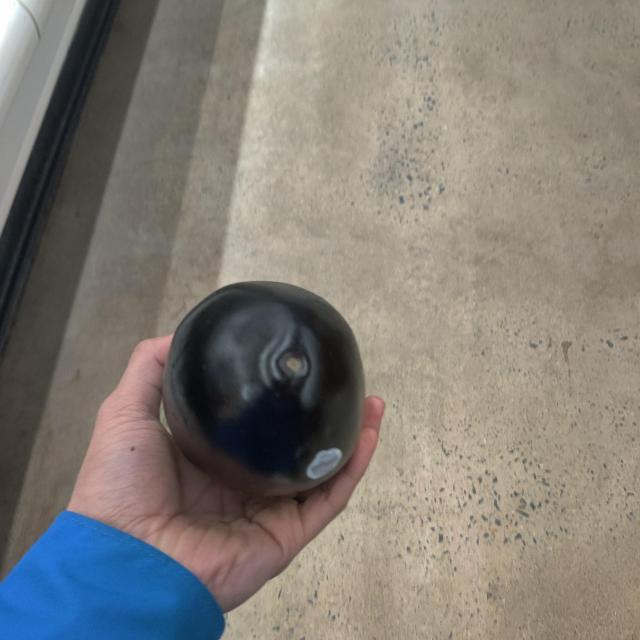Eggplant: (163, 280, 364, 491)
